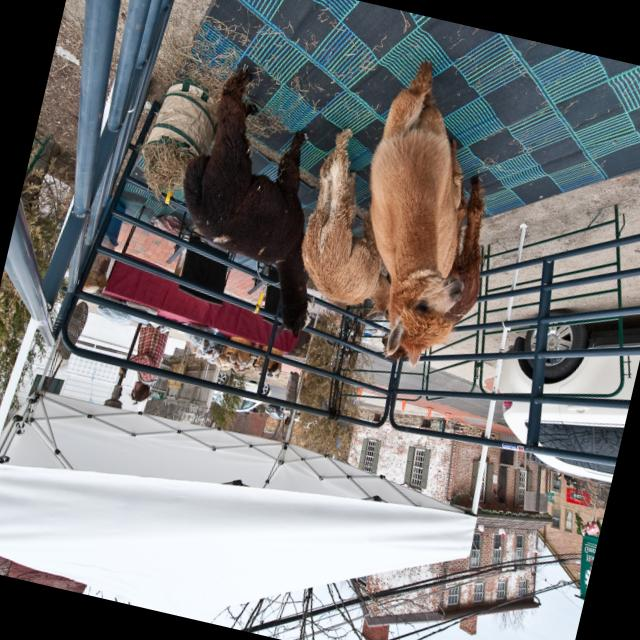alpaca: (334, 56, 514, 370), (157, 82, 356, 340), (289, 128, 431, 326)
